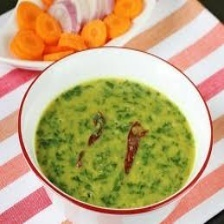dal: (35, 78, 196, 212)
